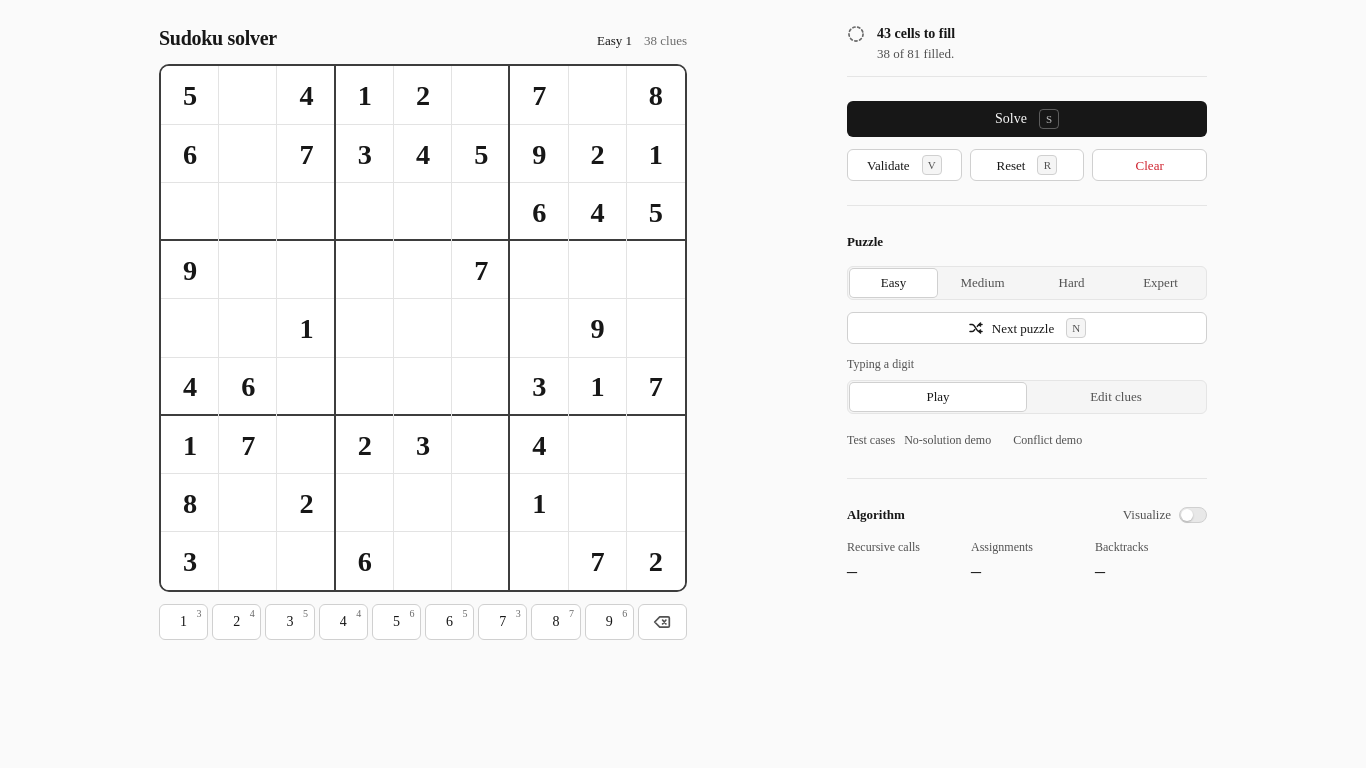
Test: SudokuWorkspace › asks before clearing, and cancel keeps the board
Click the button "Clear" at {"x": 1150, "y": 165}, box x1=1092 y1=149 x2=1207 y2=181
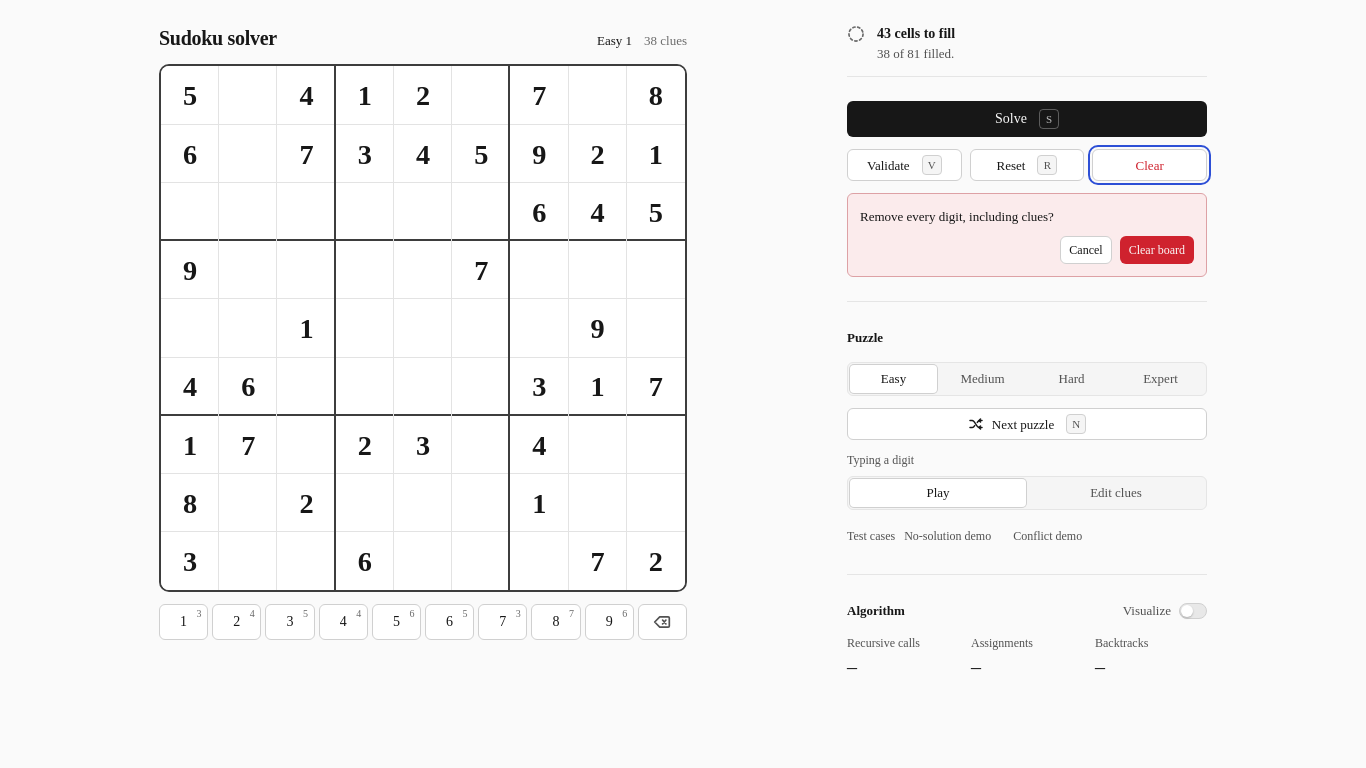
Click the button "Cancel" at {"x": 1086, "y": 250}, box x1=1060 y1=236 x2=1112 y2=264
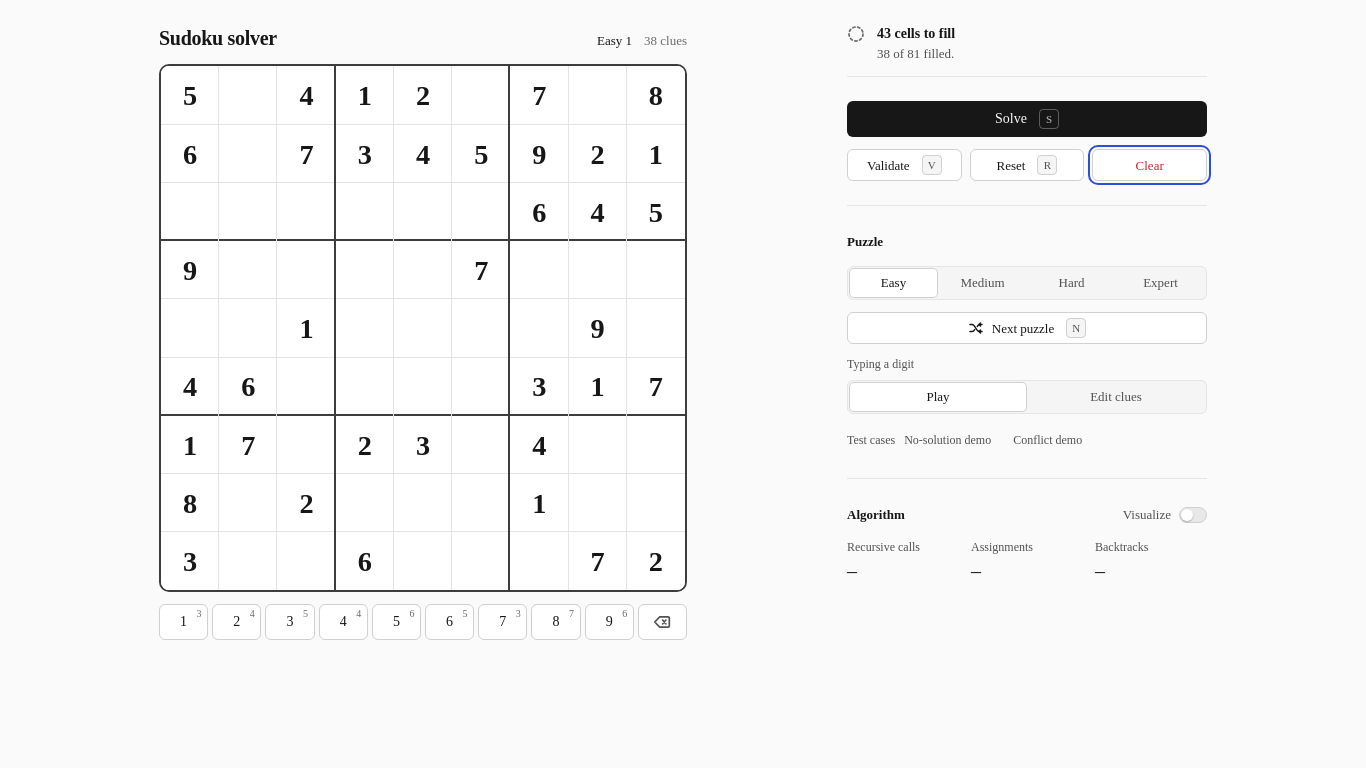
expect the text "38 clues" is shown: met, box x1=644 y1=30 x2=687 y2=52
Click the button "Clear" at {"x": 1150, "y": 165}, box x1=1092 y1=149 x2=1207 y2=181
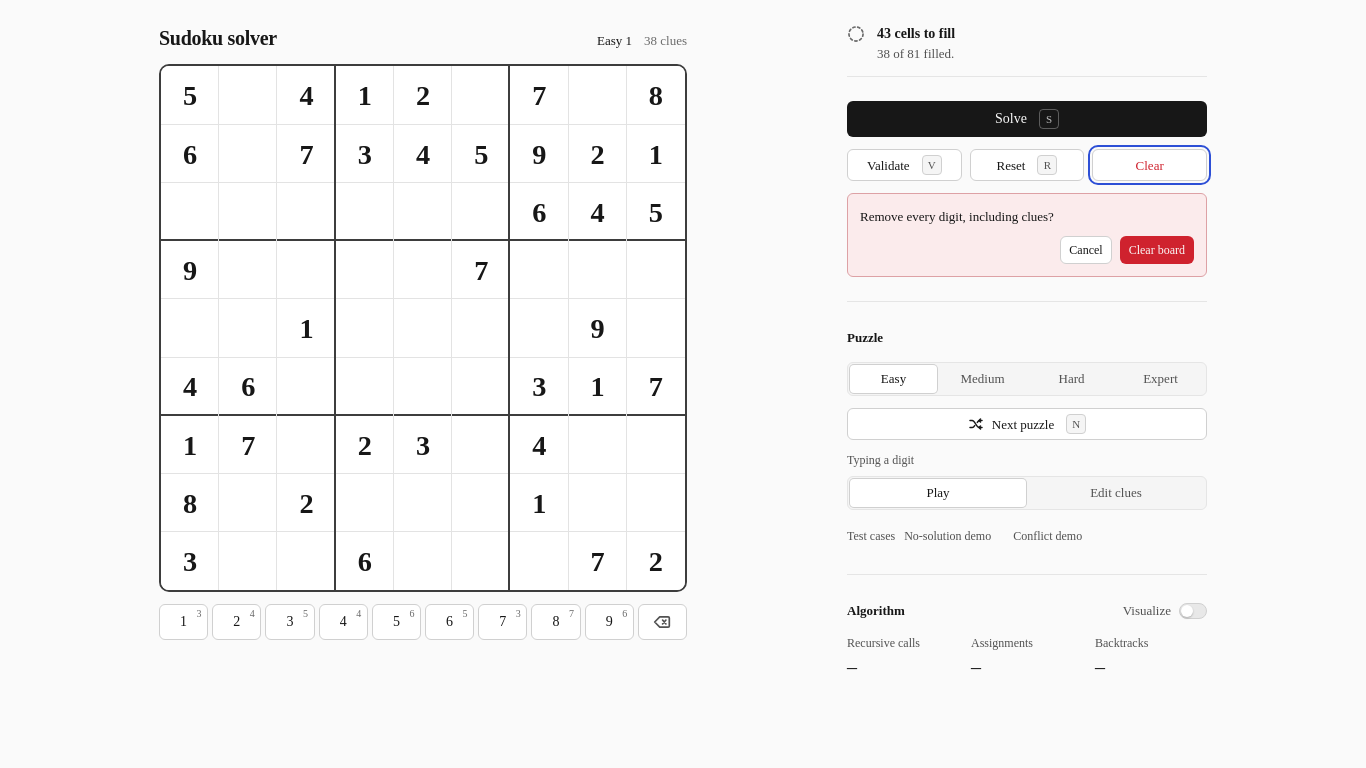
Click the button "Clear board" at {"x": 1157, "y": 250}, box x1=1120 y1=236 x2=1194 y2=264
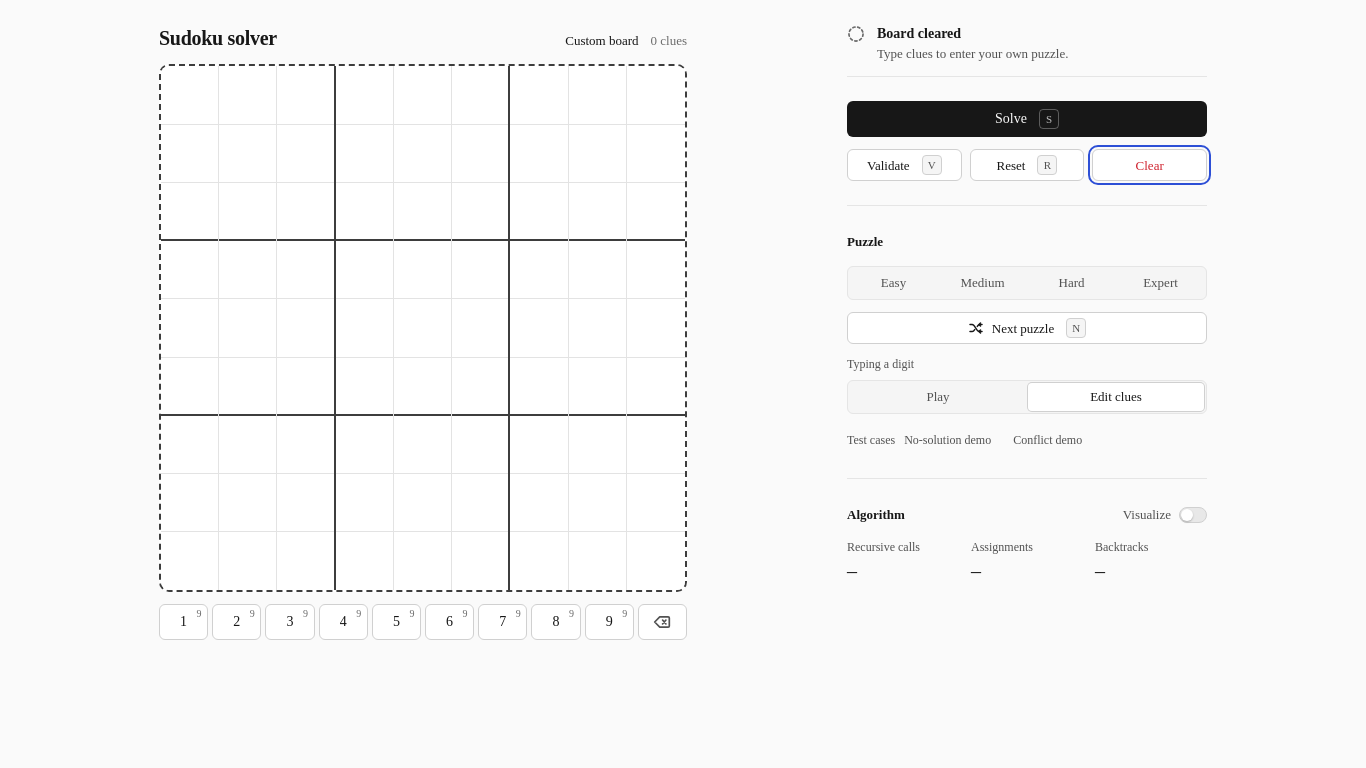
expect the text "0 clues" is shown: met, box x1=650 y1=30 x2=687 y2=52
